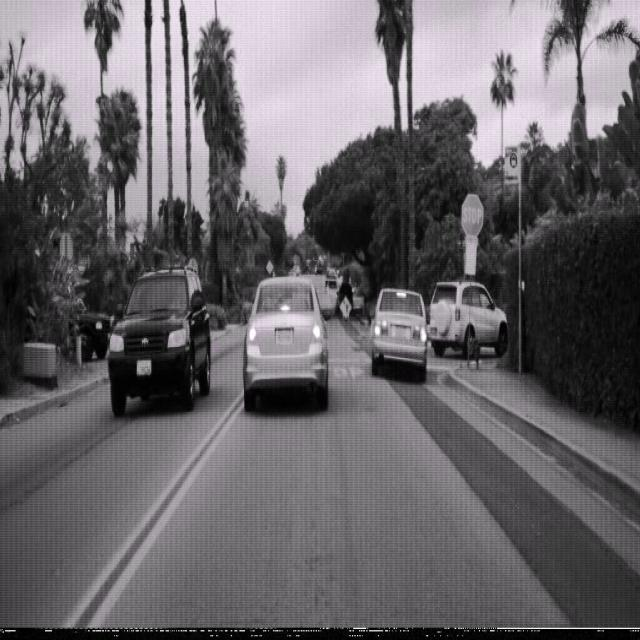stop: (461, 192, 484, 238)
